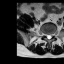CCS_normal: (48, 31, 50, 42)
LFS_normal: (52, 31, 54, 37)
LLS_normal: (50, 32, 52, 40)
RFS_normal: (43, 31, 46, 37)
RLS_normal: (46, 31, 48, 40)
